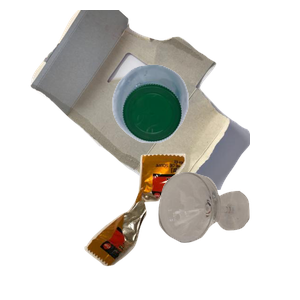glass: (156, 170, 300, 300)
paper: (28, 10, 268, 190)
plastic: (110, 62, 300, 198)
trash: (82, 151, 260, 300)
